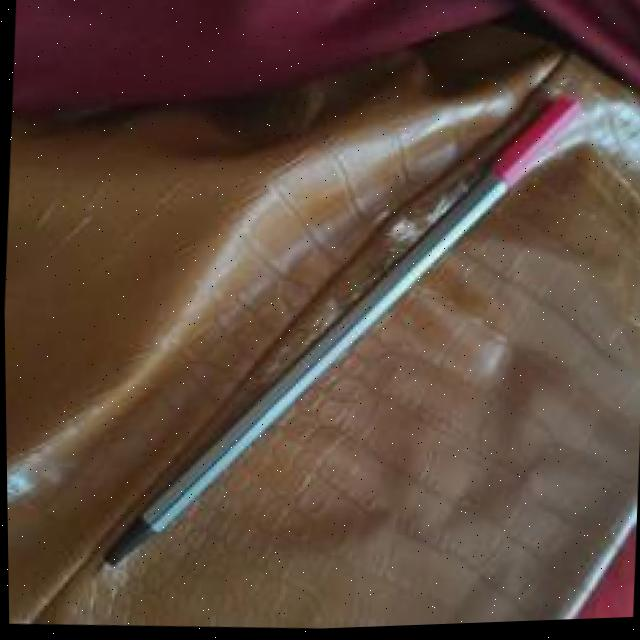pencil: (63, 88, 611, 604)
